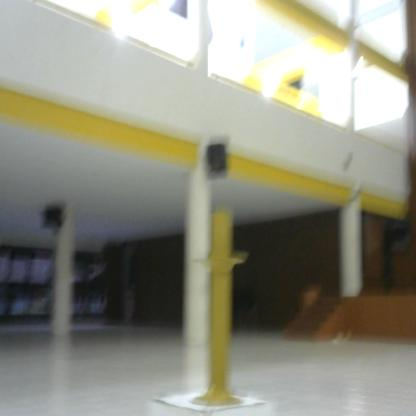pole: (190, 208, 256, 411)
